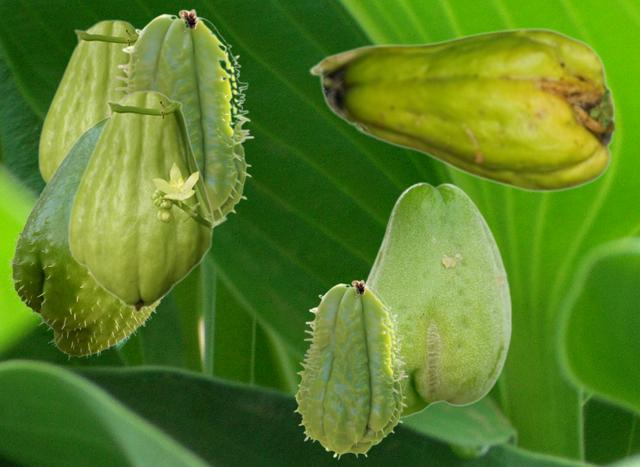sayote: (308, 27, 613, 192), (6, 117, 160, 359), (67, 90, 227, 312), (365, 181, 511, 417), (114, 8, 253, 219), (293, 279, 407, 459), (37, 19, 141, 183)
